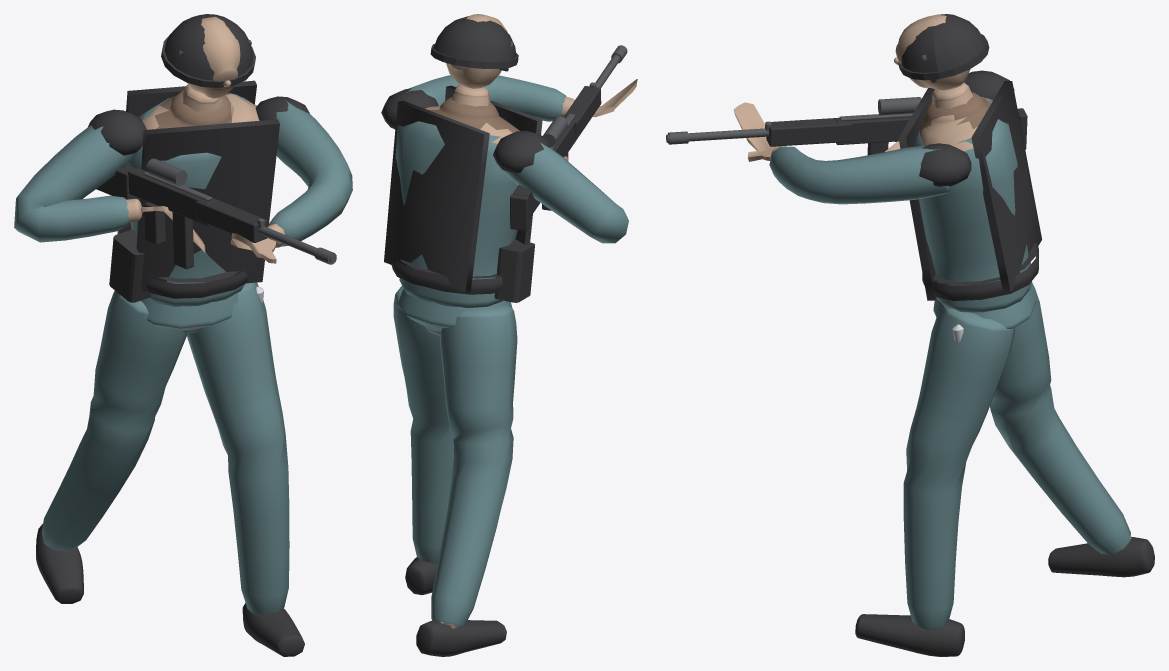
Rendered from tactical-shooter-hill-town-breacher-standing-aim-271e6ca8__27575.glb.
3 renders of one model, left to right at view 1: azimuth 30°, elevation 25°; view 2: azimuth 150°, elevation 25°; view 3: azimuth 270°, elevation 25°, orthographic. The views are drawn at different scales.
Visible parts, largest first — view 1: breacher-standing-aim; view 2: breacher-standing-aim; view 3: breacher-standing-aim.
Part boxes in pixels (<box>): breacher-standing-aim: <box>14,14,352,656</box>; breacher-standing-aim: <box>381,14,637,656</box>; breacher-standing-aim: <box>666,14,1154,656</box>.
Size of the model in its own units: 0.8072 by 1.76 by 1.27.
